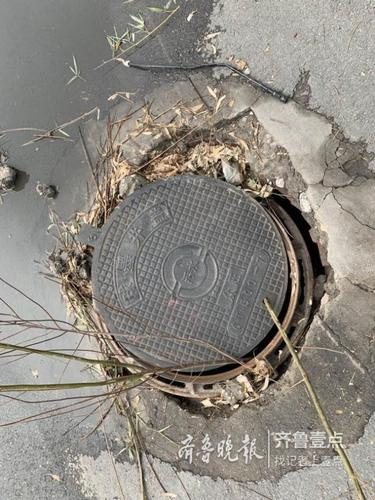circle: (37, 71, 370, 474)
